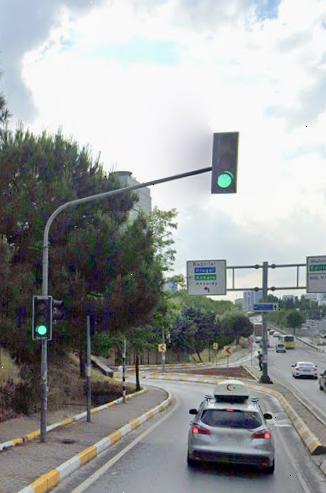greenlight: (213, 133, 238, 192), (32, 295, 52, 339)
